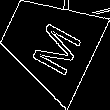M_NW: (19, 11, 80, 75)
